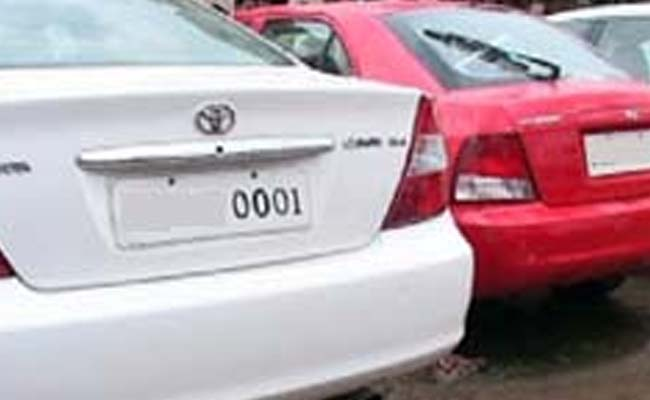number_plate: (114, 173, 317, 240)
